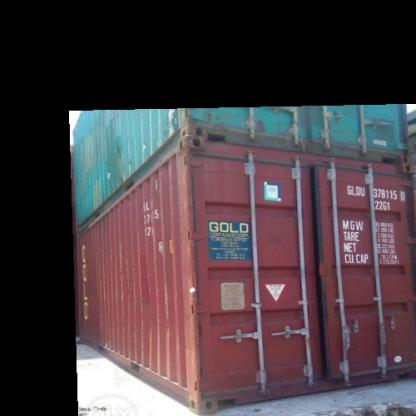Damage: (176, 136, 210, 401), (203, 370, 373, 394)
